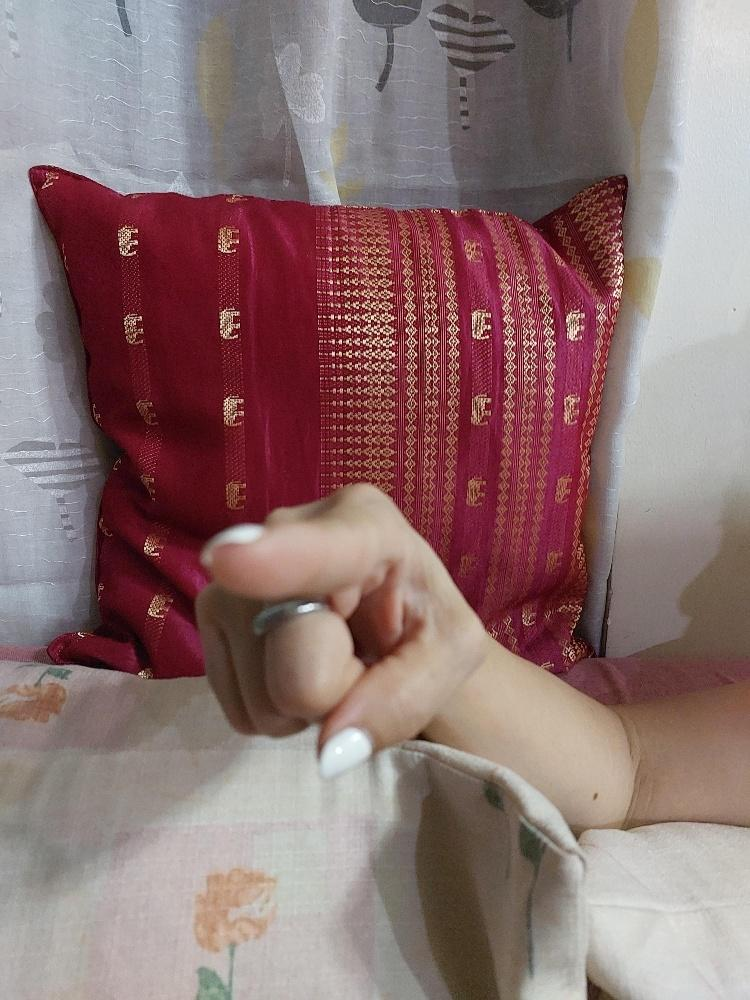z: (186, 480, 489, 780)
